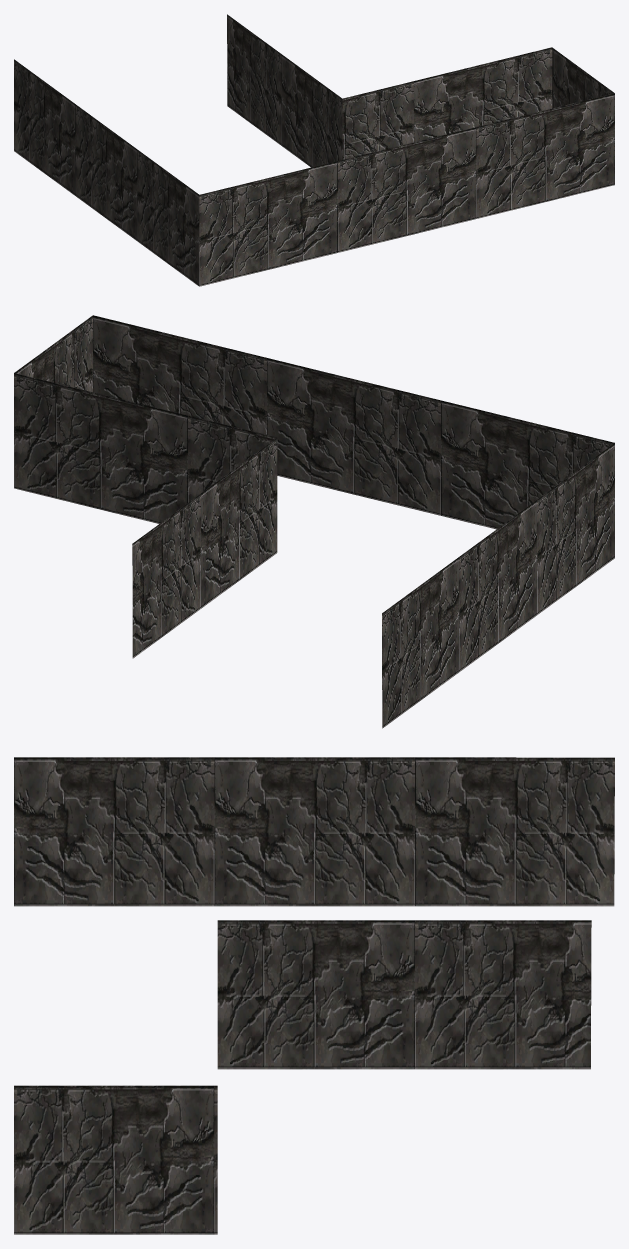
Rendered from CH09_SMAUG_PLAYSURFACE_LAIR95.fbx.
3 renders of one model, top to bottom at view 1: azimuth 30°, elevation 25°; view 2: azimuth 150°, elevation 25°; view 3: azimuth 270°, elevation 25°, orthographic. The views are drawn at different scales.
Parts seen in each view (by area): view 1: CH09_SMAUG_PLAYSURFACE_LAIR95; view 2: CH09_SMAUG_PLAYSURFACE_LAIR95; view 3: CH09_SMAUG_PLAYSURFACE_LAIR95.
Part boxes in pixels (<box>): CH09_SMAUG_PLAYSURFACE_LAIR95: <box>14,14,614,286</box>; CH09_SMAUG_PLAYSURFACE_LAIR95: <box>14,315,614,728</box>; CH09_SMAUG_PLAYSURFACE_LAIR95: <box>14,757,614,1234</box>.
Bounding box in the file's own units: 318535 × 67531 × 246188.
Materials: 1 (1 with a texture image).
